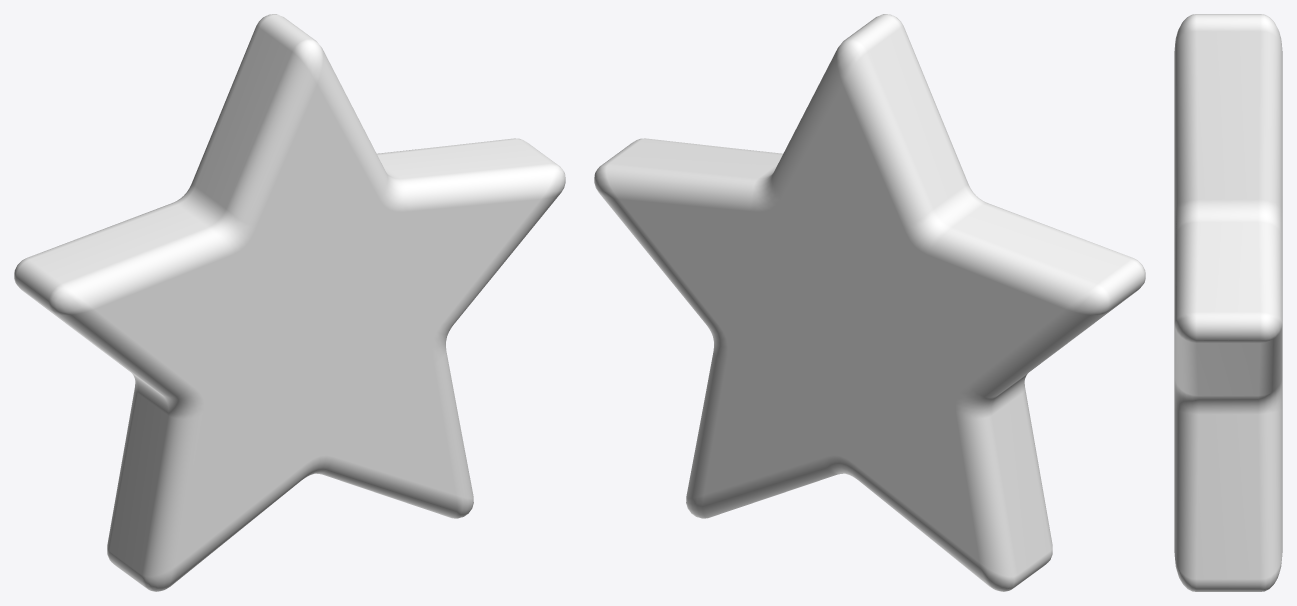
The model's file is star.fbx.
The picture shows the model from 3 angles, left to right: view 1: azimuth 30°, elevation 25°; view 2: azimuth 150°, elevation 25°; view 3: azimuth 270°, elevation 25°; orthographic projection. The views are drawn at different scales.
Visible parts, largest first — view 1: node_id70; view 2: node_id70; view 3: node_id70.
Part boxes in pixels (left/top/right/bottom): node_id70: left=14, top=14, right=565, bottom=591; node_id70: left=594, top=14, right=1145, bottom=591; node_id70: left=1174, top=14, right=1282, bottom=591.
Bounding box in the file's own units: 0.512 × 0.4887 × 0.0952.
Materials: 1 (1 with a texture image).
